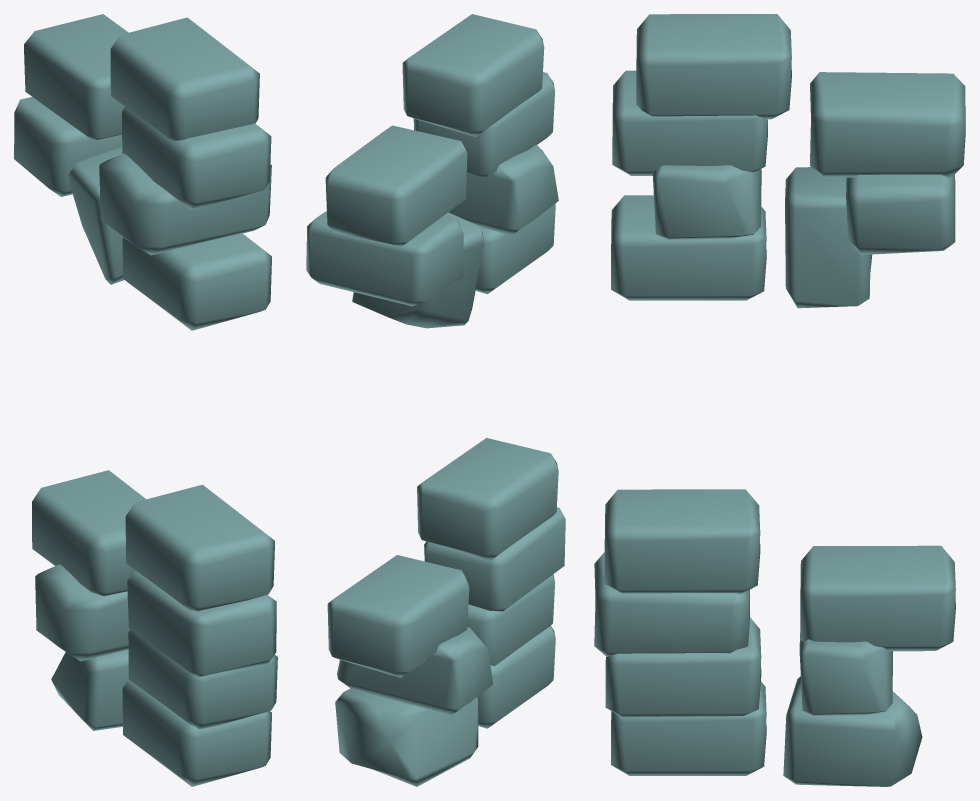
File: Beam_Structure_14A_Lod0.fbx
3 views of the same model, side by side, from view 1: azimuth 30°, elevation 25°; view 2: azimuth 150°, elevation 25°; view 3: azimuth 270°, elevation 25° (orthographic). The views are drawn at different scales.
Visible parts, largest first — view 1: Beam_Structure_14A_Lod0; view 2: Beam_Structure_14A_Lod0; view 3: Beam_Structure_14A_Lod0.
Part boxes in pixels (left/top/right/bottom): Beam_Structure_14A_Lod0: left=14, top=14, right=277, bottom=786; Beam_Structure_14A_Lod0: left=306, top=14, right=565, bottom=786; Beam_Structure_14A_Lod0: left=594, top=14, right=965, bottom=786.
Bounding box in the file's own units: 33.44 × 167 × 76.33.
